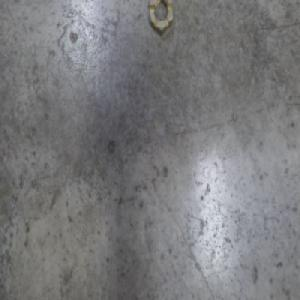Nut: (147, 0, 174, 39)
